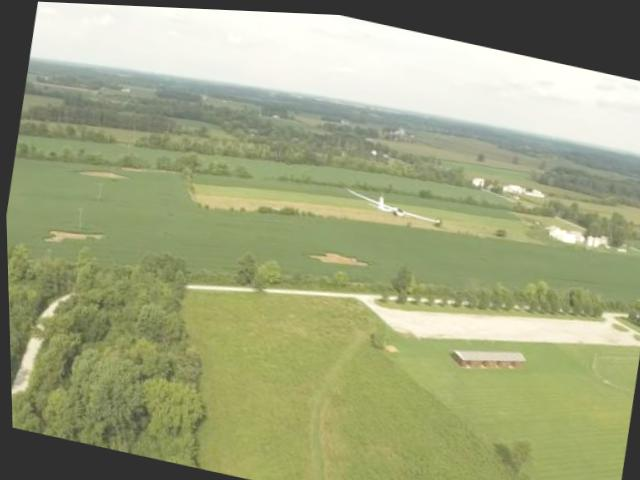uav: (328, 169, 450, 235)
